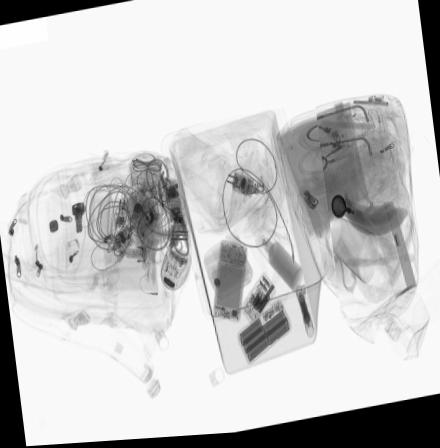Powerbank: (236, 302, 292, 369)
